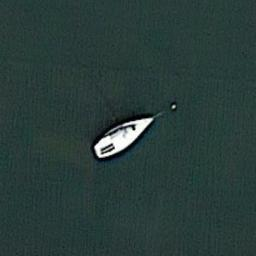boat: (91, 116, 154, 160)
